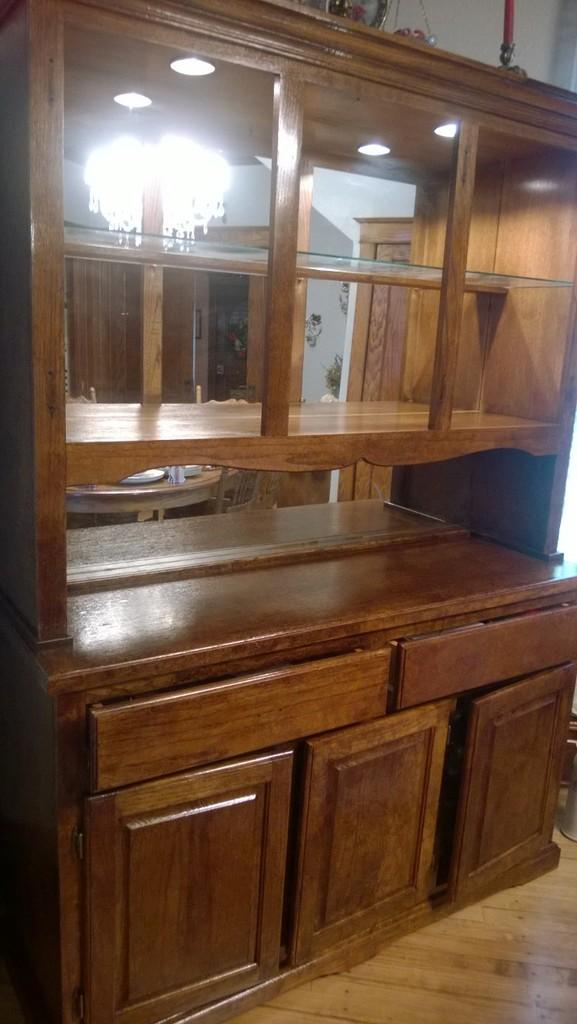cabinet_door: (101, 795, 276, 983), (94, 666, 392, 750), (311, 728, 429, 898), (474, 698, 564, 859), (400, 596, 574, 678)
